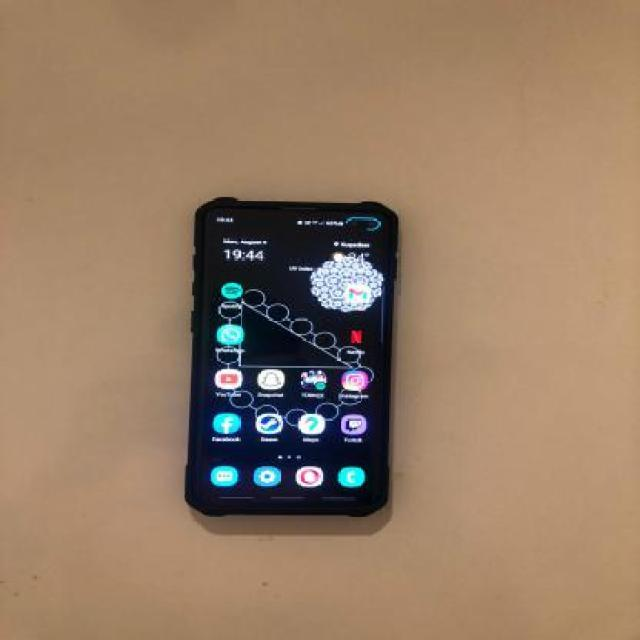phone: (188, 196, 400, 518)
